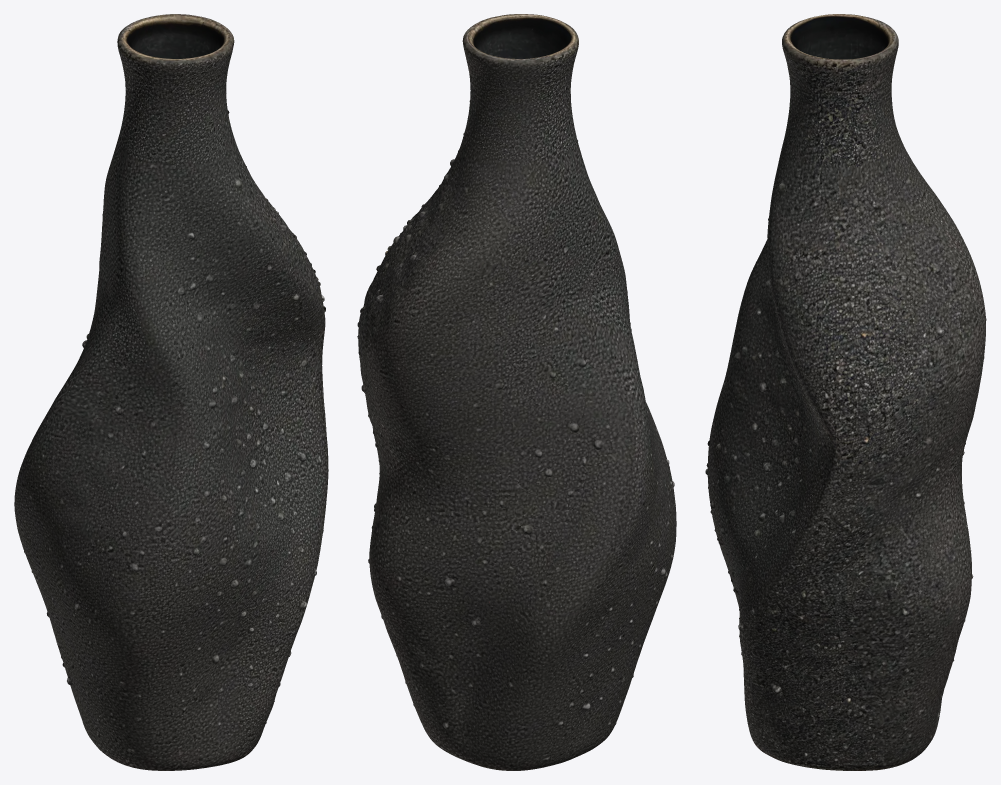
3 views of the same model, side by side, from view 1: azimuth 30°, elevation 25°; view 2: azimuth 150°, elevation 25°; view 3: azimuth 270°, elevation 25° (orthographic).
Visible parts, largest first — view 1: tripo_node_7482fdfd-b400-4e85-9f9a-686c0681fad8; view 2: tripo_node_7482fdfd-b400-4e85-9f9a-686c0681fad8; view 3: tripo_node_7482fdfd-b400-4e85-9f9a-686c0681fad8.
Boxes of the visible parts, x1,y1,x2,y2 form: tripo_node_7482fdfd-b400-4e85-9f9a-686c0681fad8: [14, 14, 328, 770]; tripo_node_7482fdfd-b400-4e85-9f9a-686c0681fad8: [357, 14, 676, 770]; tripo_node_7482fdfd-b400-4e85-9f9a-686c0681fad8: [705, 14, 986, 770].
Bounding box in the file's own units: 0.4281 × 1 × 0.3627.
1 material, 1 textured.
